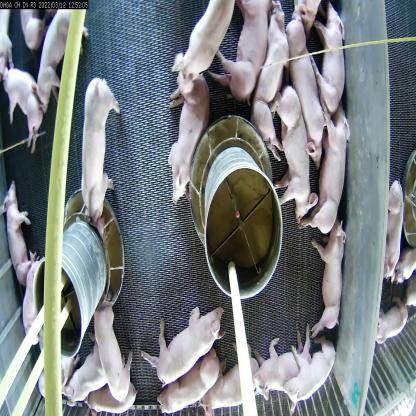Pig: (140, 299, 221, 389), (208, 0, 271, 115), (281, 15, 325, 172), (273, 85, 318, 226), (167, 64, 211, 204), (79, 77, 118, 229), (166, 0, 235, 84), (33, 3, 82, 115), (308, 96, 347, 236), (255, 6, 286, 154), (309, 2, 349, 116), (91, 293, 132, 403), (151, 350, 219, 415), (252, 328, 312, 401), (284, 337, 342, 410), (200, 350, 260, 414), (312, 224, 345, 336), (4, 62, 46, 148), (1, 174, 34, 282), (380, 169, 404, 282), (66, 342, 108, 406), (374, 297, 413, 352), (86, 380, 139, 415)
